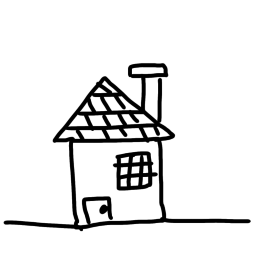chimney: (126, 49, 173, 119)
closed_window: (110, 148, 158, 193)
door: (78, 187, 117, 228)
roof: (36, 69, 182, 144)
wall: (58, 135, 177, 236)
